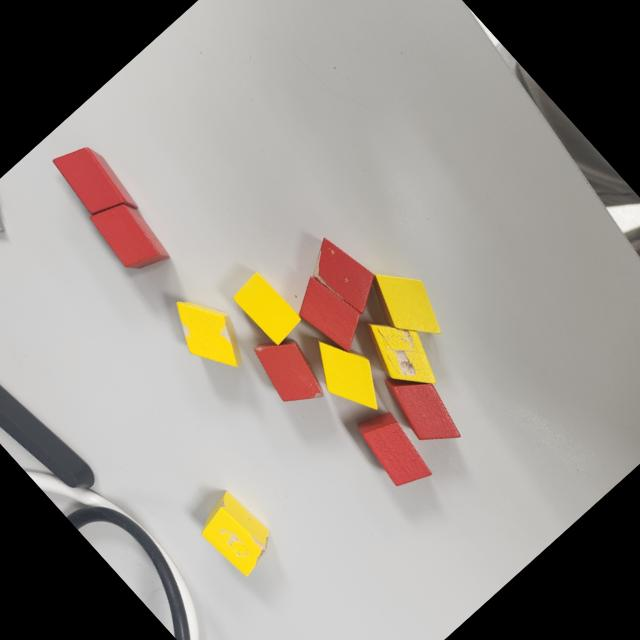broken: (156, 280, 258, 384), (352, 302, 452, 404), (189, 486, 283, 582), (297, 227, 389, 322), (242, 325, 334, 419)
red: (373, 356, 474, 461), (45, 131, 144, 234), (283, 266, 376, 362), (348, 401, 440, 497), (83, 188, 175, 282)
yellow: (296, 322, 399, 428), (356, 252, 458, 357), (226, 267, 306, 350)
